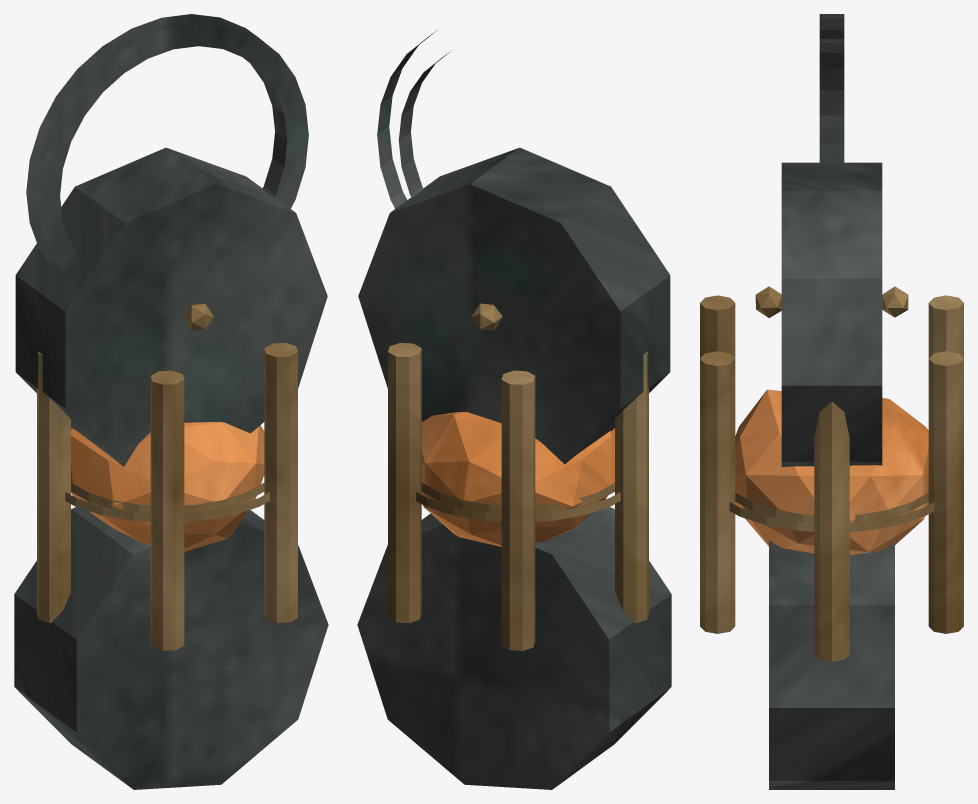
File: 0915_lantern_15.glb
3 views of the same model, side by side, from view 1: azimuth 30°, elevation 25°; view 2: azimuth 150°, elevation 25°; view 3: azimuth 270°, elevation 25° (orthographic).
Visible parts, largest first — view 1: iron, brass, amber; view 2: iron, brass, amber; view 3: iron, brass, amber.
Boxes of the visible parts, x1=… form: iron: x1=14, y1=14, x2=328, y2=789; brass: x1=37, y1=303, x2=297, y2=650; amber: x1=71, y1=422, x2=264, y2=551; iron: x1=357, y1=30, x2=671, y2=789; brass: x1=388, y1=303, x2=648, y2=650; amber: x1=421, y1=412, x2=614, y2=546; iron: x1=769, y1=14, x2=894, y2=789; brass: x1=700, y1=286, x2=963, y2=661; amber: x1=735, y1=389, x2=928, y2=555.
Bounding box in the file's own units: 0.5 × 1.32 × 0.4197.
Materials: 3 (3 with a texture image).
